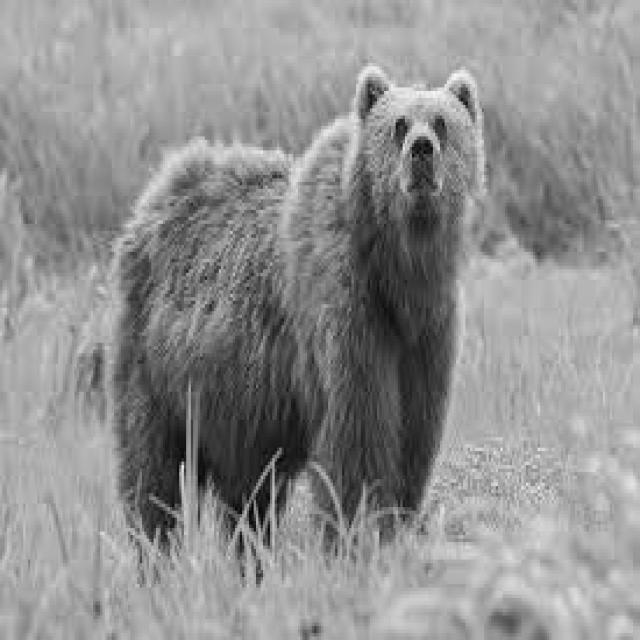Bear: (103, 65, 486, 561)
